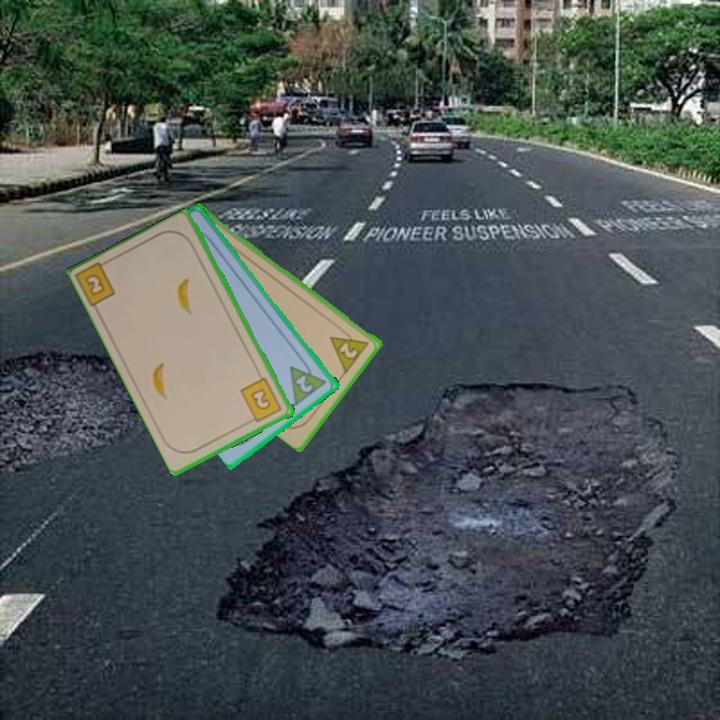2b: (74, 255, 119, 311), (237, 374, 285, 426)
2p: (286, 354, 330, 408), (326, 324, 372, 375)
